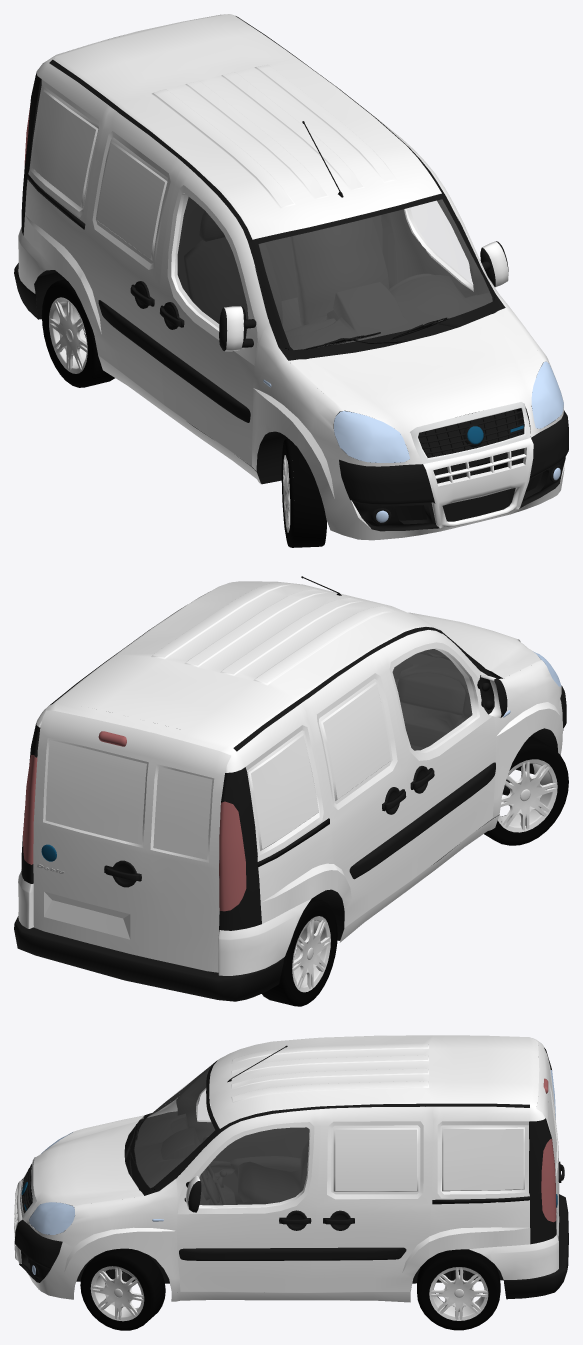
The model's file is doblo-2006.glb.
The picture shows the model from 3 angles, top to bottom: view 1: azimuth 30°, elevation 25°; view 2: azimuth 150°, elevation 25°; view 3: azimuth 270°, elevation 25°; orthographic projection. The views are drawn at different scales.
Visible parts, largest first — view 1: body, roof, model_13, model_12, hood, model_3, model_11, model_0, model_4_0, model_8, model_9, model_7 (+3 smaller); view 2: body, roof, model_12, model_13, model_11, model_7, model_8, model_4_1, hood, model_0; view 3: body, roof, model_12, model_13, hood, model_8, model_0, model_11, model_7, model_3, model_9, model_4_0 (+2 smaller).
Part boxes in pixels (<box>): body: <box>18,14,564,540</box>; roof: <box>53,14,441,239</box>; model_13: <box>175,194,492,349</box>; model_12: <box>14,16,568,531</box>; hood: <box>288,308,543,432</box>; model_3: <box>184,211,553,466</box>; model_11: <box>284,273,492,350</box>; model_0: <box>34,121,561,531</box>; model_4_0: <box>263,361,563,522</box>; model_8: <box>41,281,326,547</box>; model_9: <box>59,279,323,547</box>; model_7: <box>49,297,290,532</box>; body: <box>18,591,562,975</box>; roof: <box>53,581,439,747</box>; model_12: <box>14,606,566,1001</box>; model_13: <box>393,649,476,751</box>; model_11: <box>392,653,500,747</box>; model_7: <box>292,759,557,992</box>; model_8: <box>262,743,568,1006</box>; model_4_1: <box>23,731,246,911</box>; hood: <box>408,612,541,678</box>; model_0: <box>219,576,557,958</box>; body: <box>14,1037,559,1302</box>; roof: <box>209,1035,529,1128</box>; model_12: <box>14,1048,568,1299</box>; model_13: <box>135,1065,309,1207</box>; hood: <box>33,1115,143,1206</box>; model_8: <box>80,1253,500,1330</box>; model_0: <box>31,1045,503,1283</box>; model_11: <box>129,1111,235,1205</box>; model_7: <box>90,1266,488,1321</box>; model_3: <box>48,1135,540,1240</box>; model_9: <box>94,1248,500,1319</box>; model_4_0: <box>29,1070,555,1274</box>.
Bounding box in the file's own units: 1.93 × 2.03 × 4.25.
